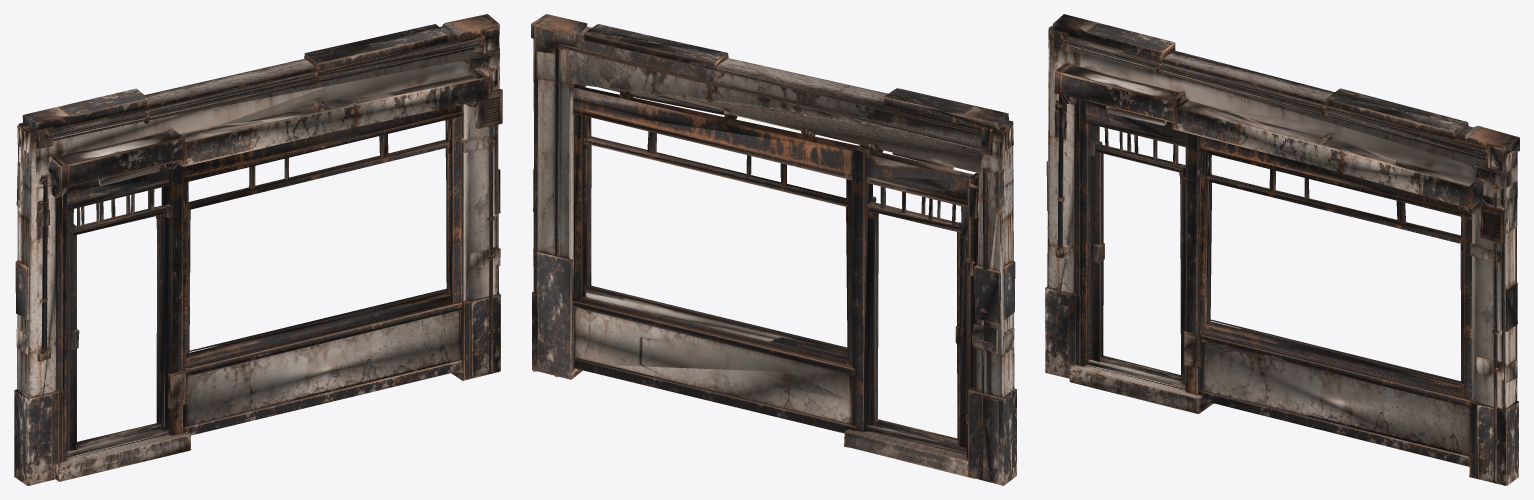
The model's file is shop_window.glb.
The picture shows the model from 3 angles, left to right: view 1: azimuth 30°, elevation 25°; view 2: azimuth 150°, elevation 25°; view 3: azimuth 330°, elevation 25°; orthographic projection. The views are drawn at different scales.
Visible parts, largest first — view 1: Mesh_0; view 2: Mesh_0; view 3: Mesh_0.
Part boxes in pixels (x1=…): Mesh_0: x1=14, y1=14, x2=502, y2=485; Mesh_0: x1=531, y1=14, x2=1016, y2=485; Mesh_0: x1=1045, y1=14, x2=1519, y2=485.
Bounding box in the file's own units: 5.2 × 3.8 × 0.5.
1 material, 1 textured.
